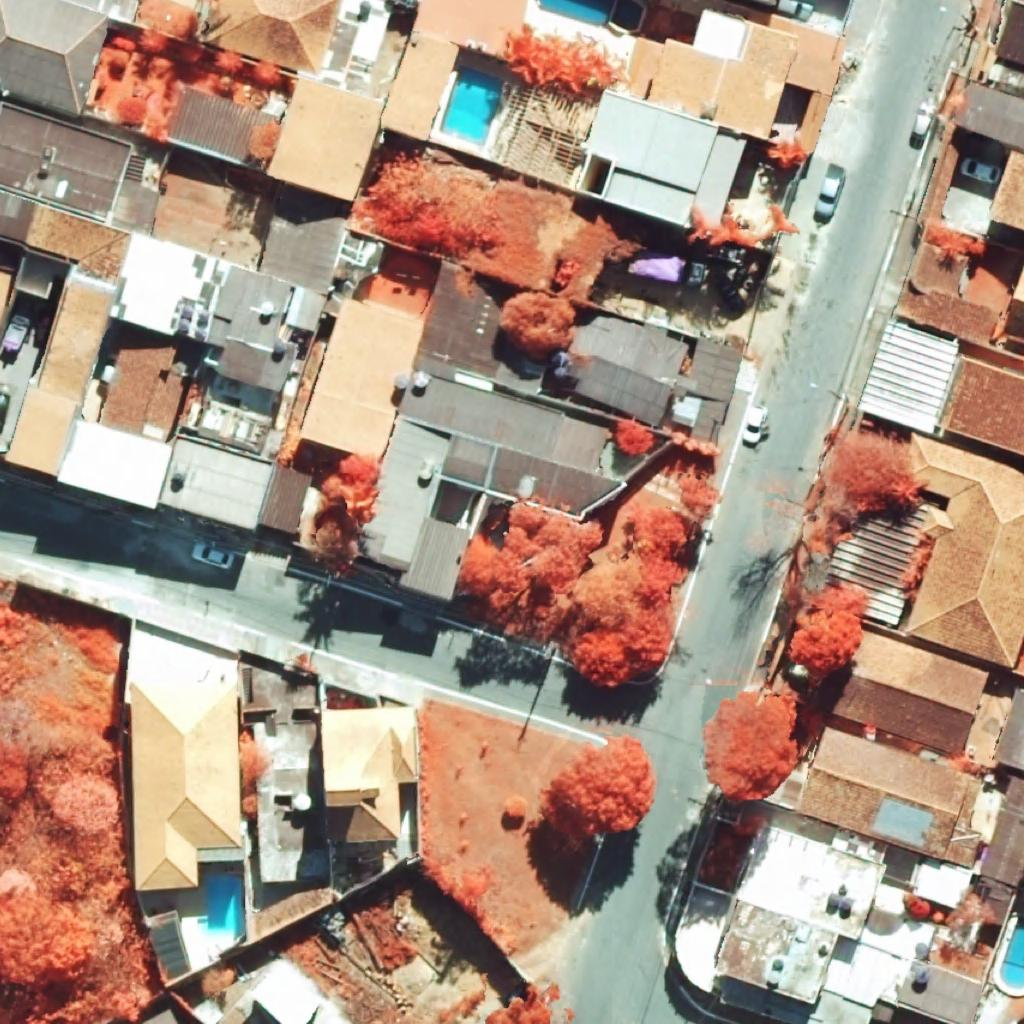pool: (441, 66, 504, 146), (207, 875, 245, 943), (540, 0, 615, 26), (1000, 916, 1024, 989)
